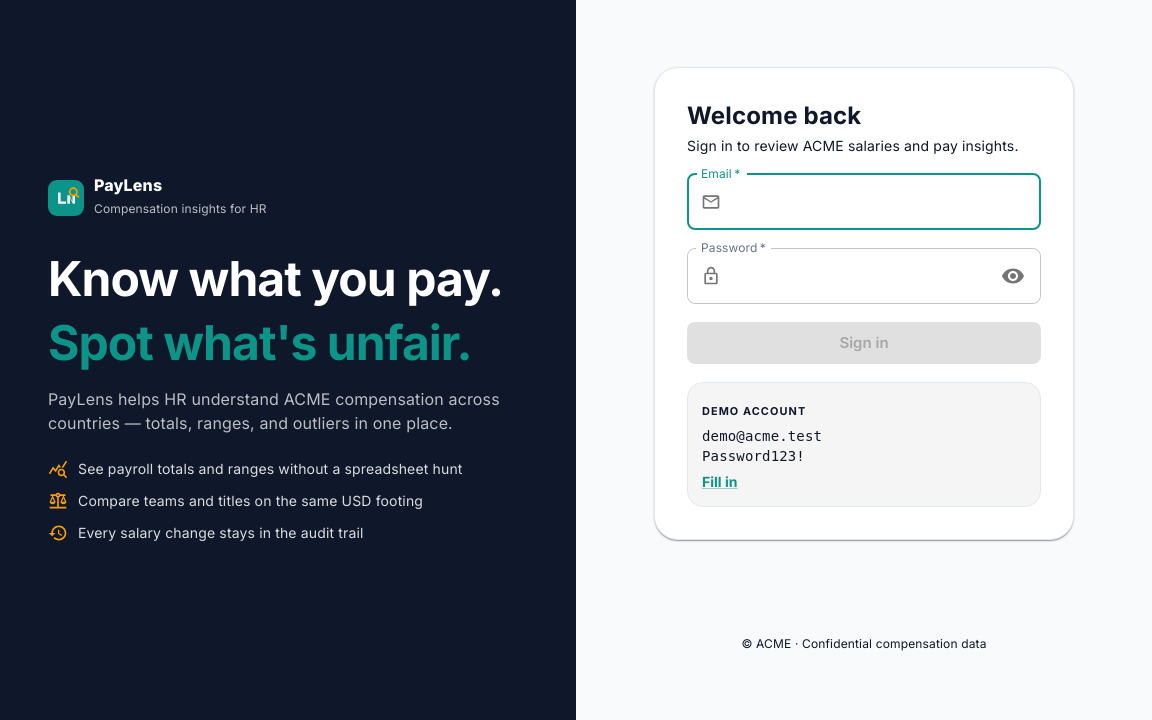
LoginPage › shows an error alert on failed login
This screenshot has width=1152, height=720.
In the field labelled "Email *": (885, 202) [729, 174, 1041, 230], type "bad@acme.test"
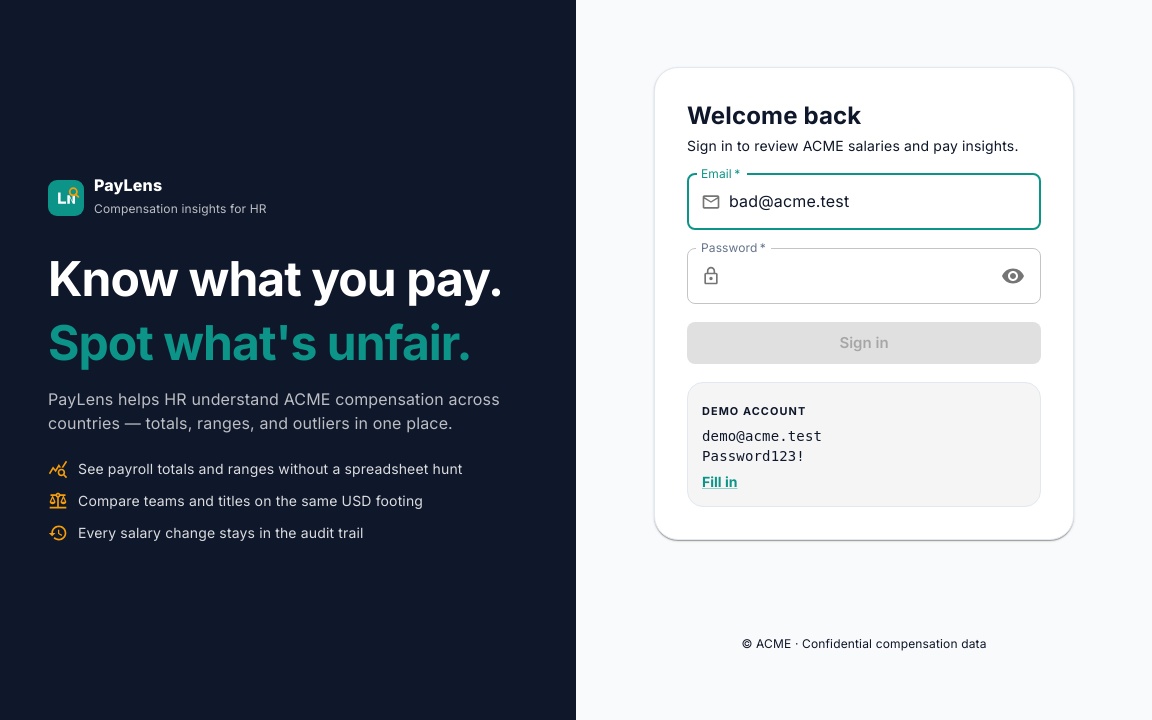
In the password field labelled "Password *": (858, 276) [729, 248, 988, 304], type "wrong"
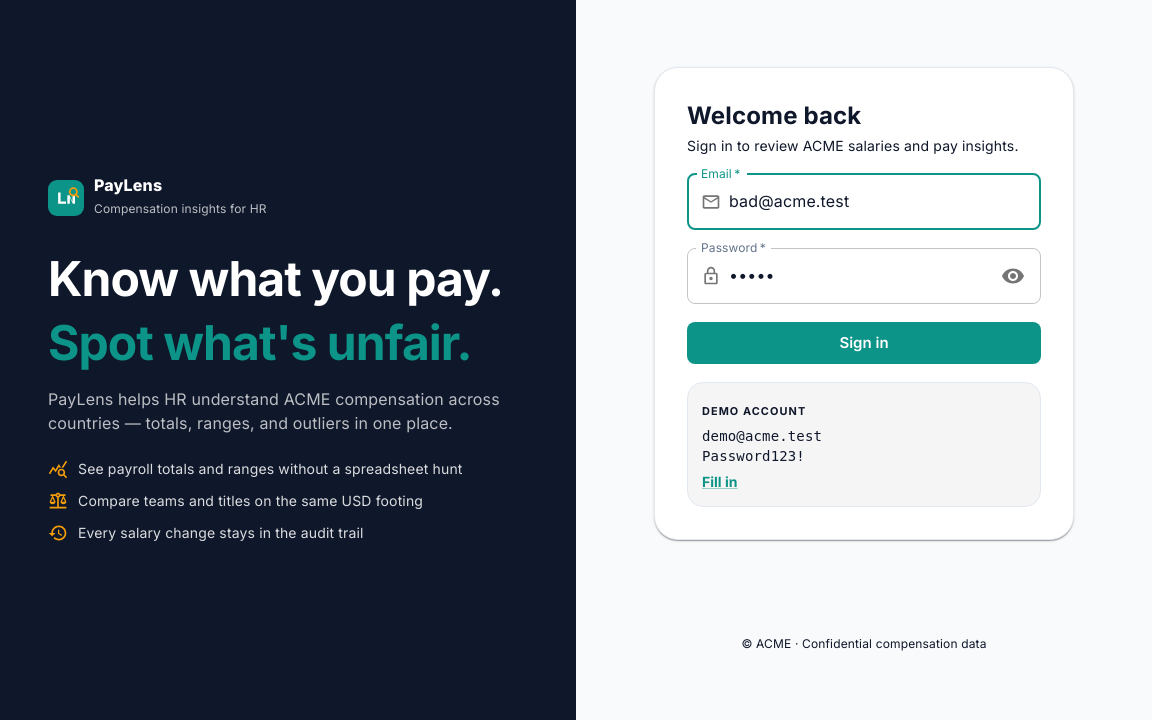
Click the button "Sign in": (864, 343) [687, 322, 1041, 364]
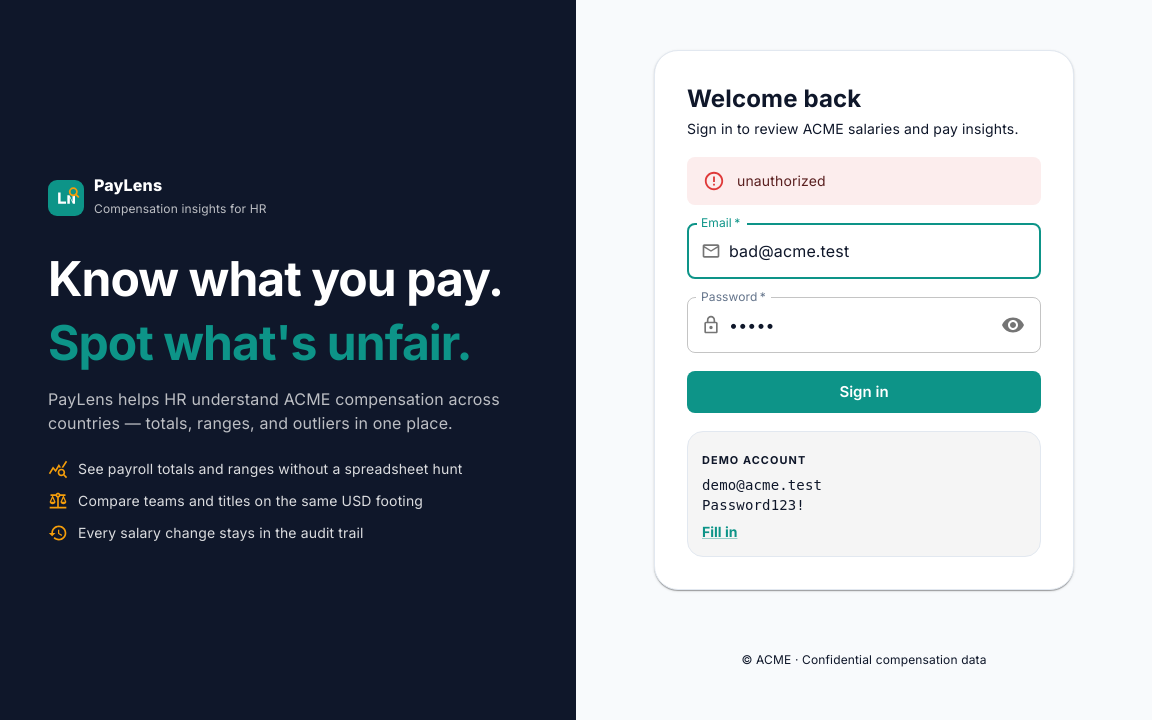
Expected: the message reads "unauthorized", [737, 172, 826, 189]
